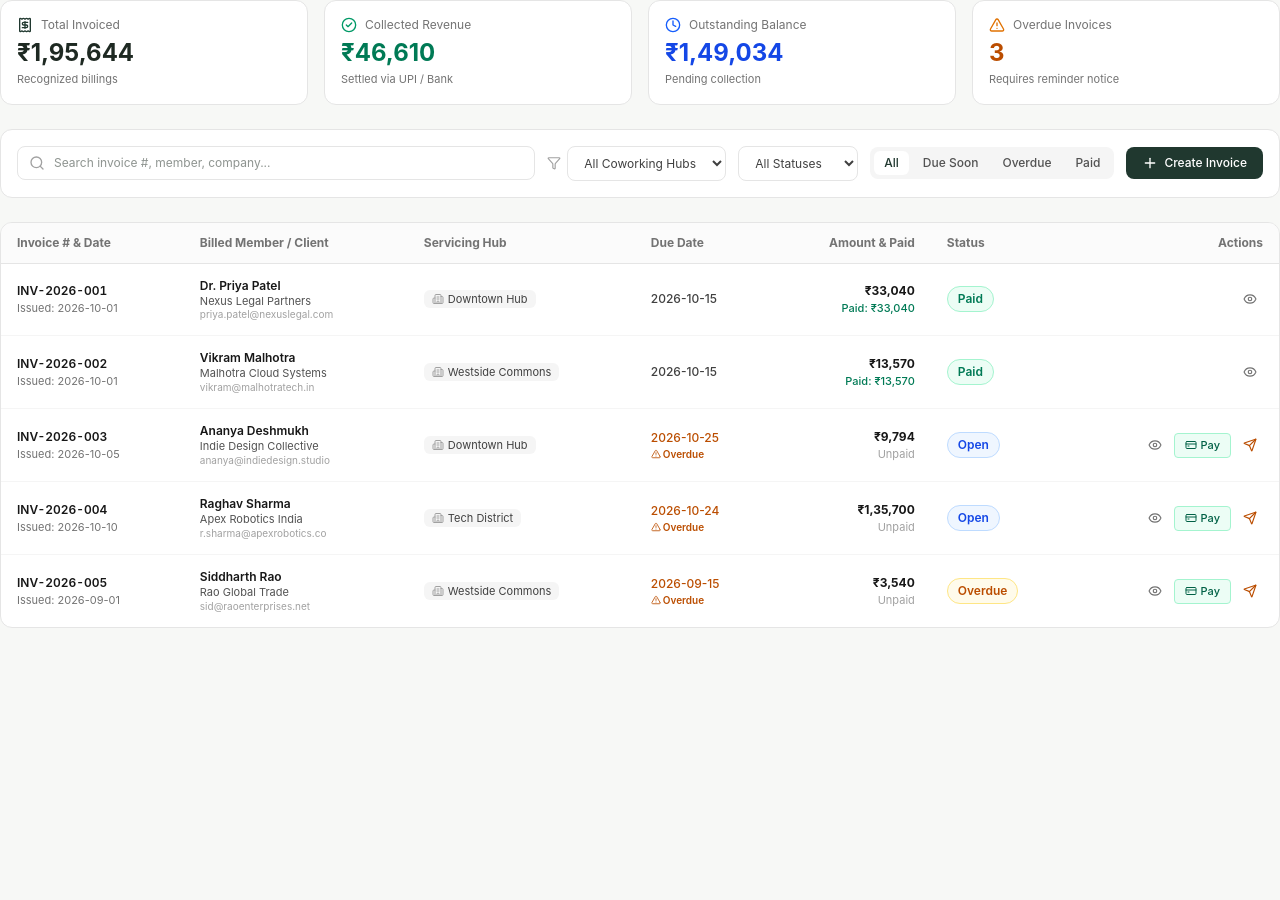
Test: InvoicesDirectory Component › filters invoices based on search query
The width and height of the screenshot is (1280, 900).
Type "Malhotra" into the field with placeholder "Search invoice #, member, company..." at (276, 163), box [17, 146, 535, 180]
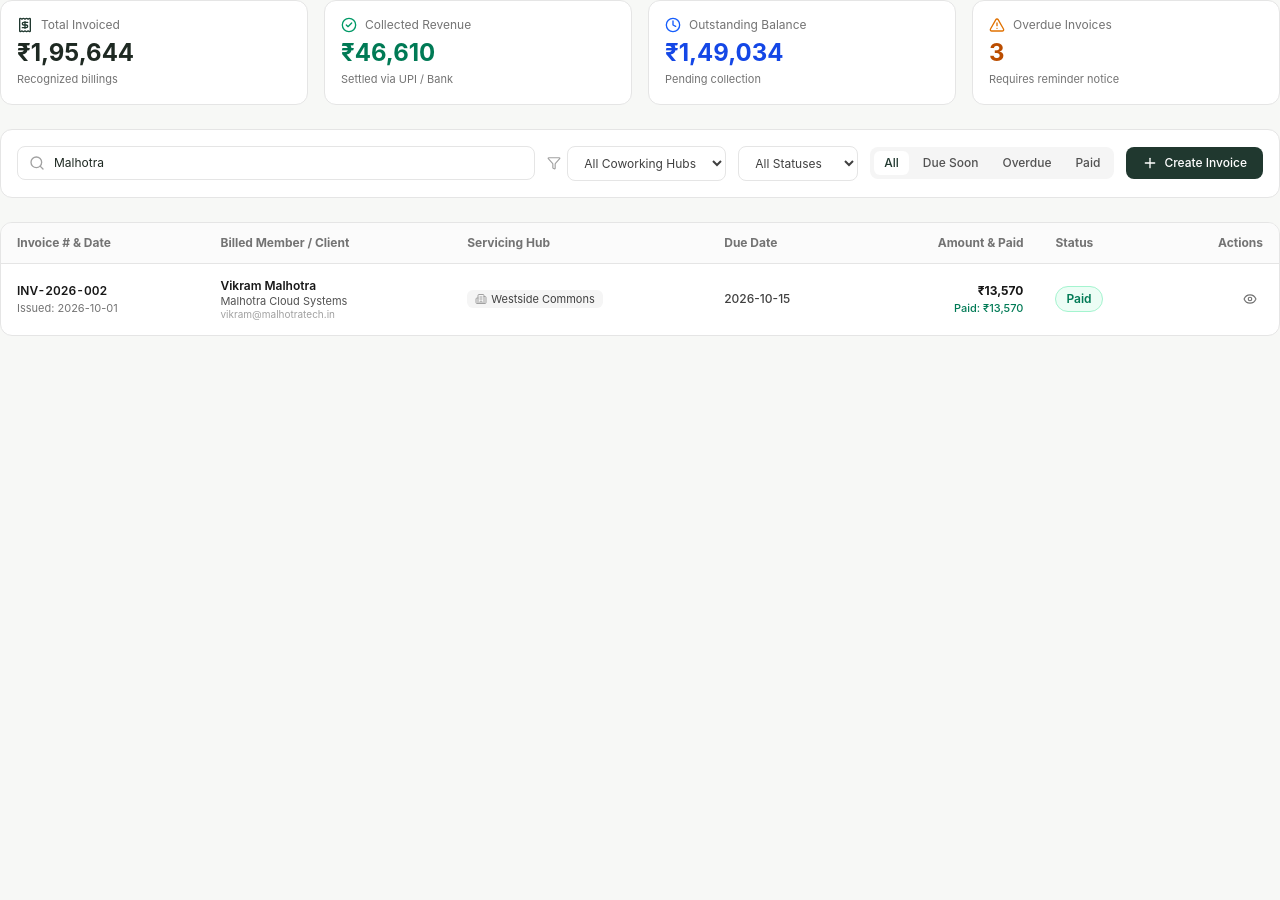
Expected: the text "INV-2026-002" is shown, [17, 283, 107, 298]
Expected: the text "INV-2026-001" is gone
